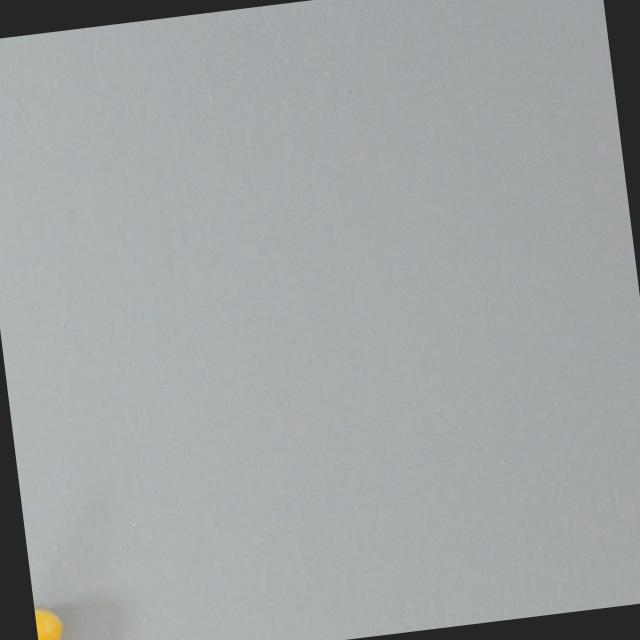estandar: (33, 601, 83, 640)
